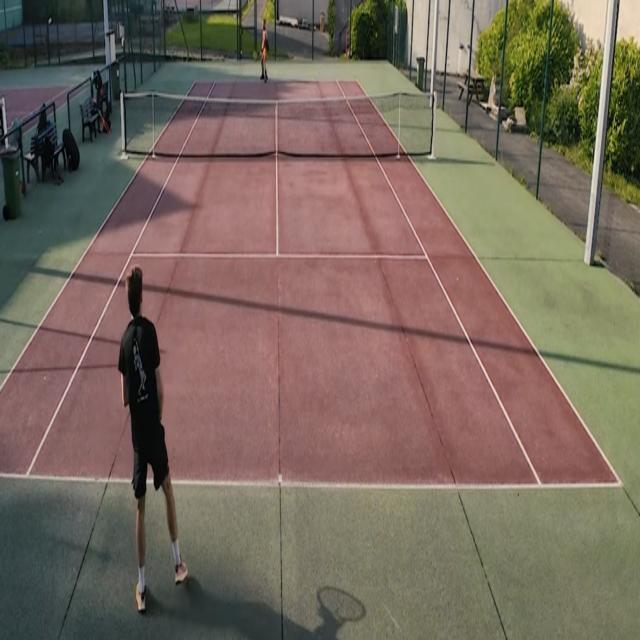ball: (240, 49, 242, 55)
